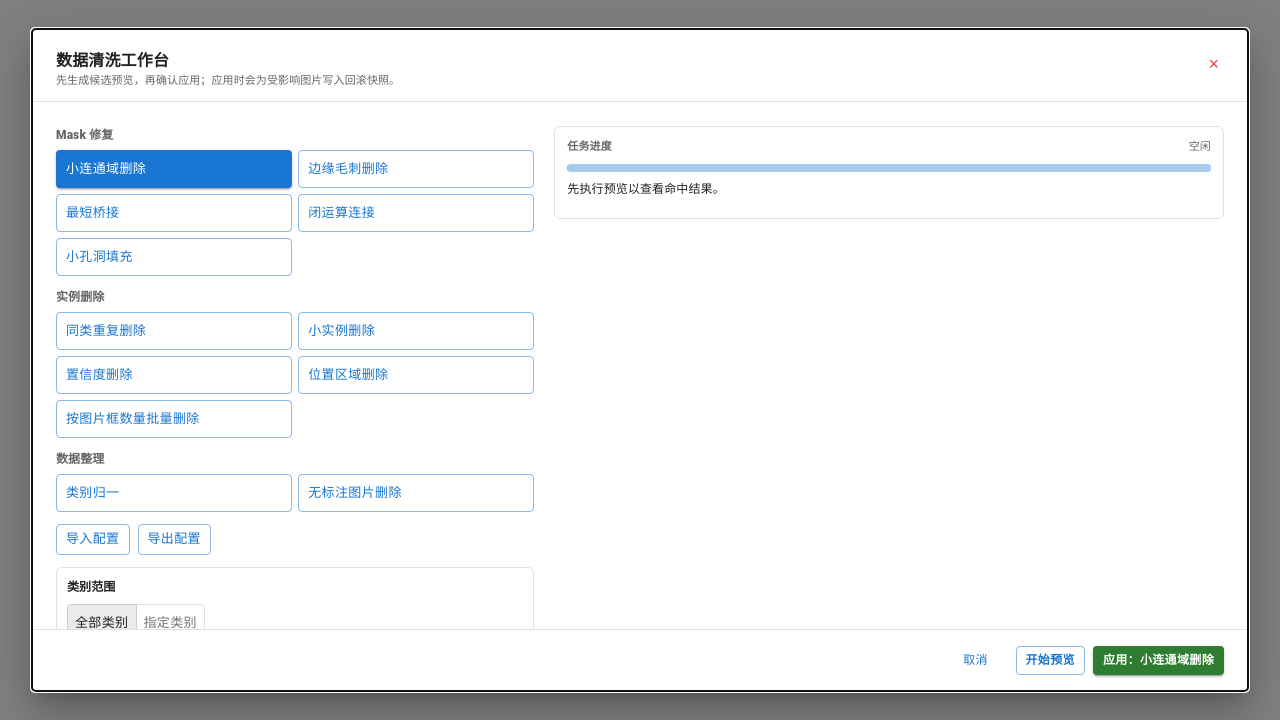
Test: data cleaning workbench › uses a MUI confirmation dialog before apply
Click the button "应用：小连通域删除". click: (1158, 661)
box: [1093, 646, 1224, 675]
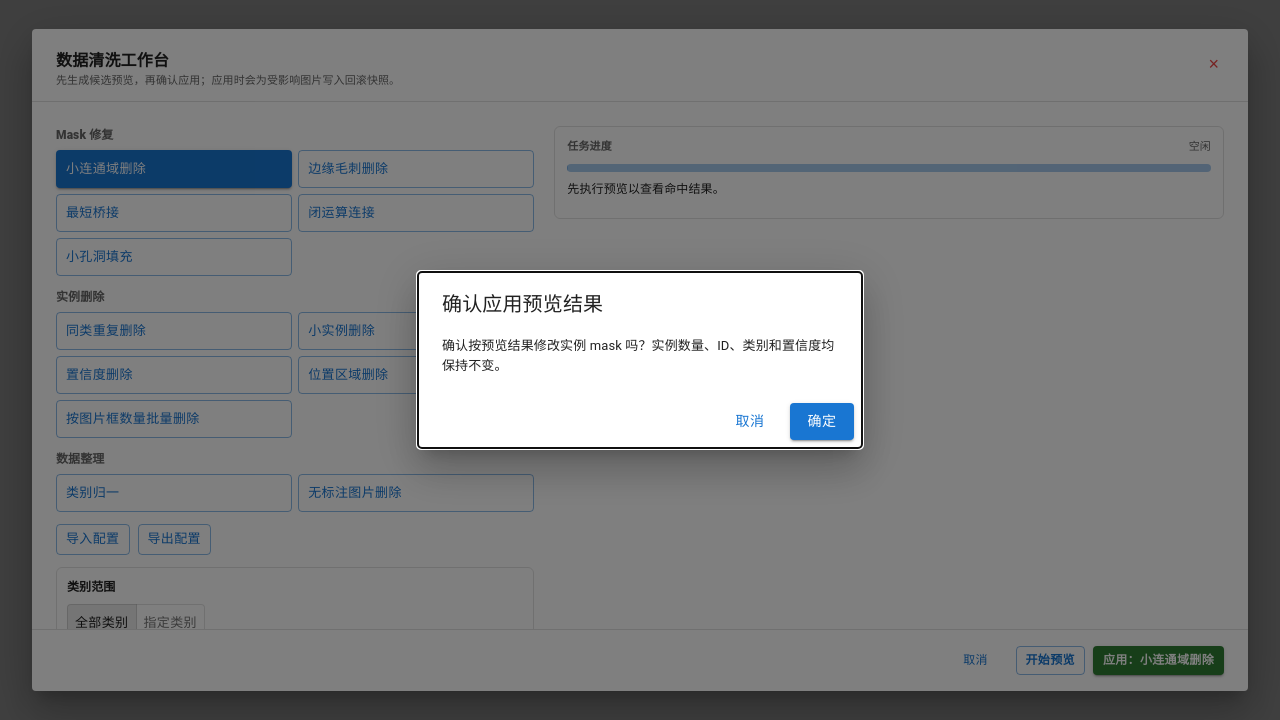
Now the dialog "确认应用预览结果" is shown, box [418, 272, 862, 448]
Now the text "确认按预览结果修改实例 mask 吗？实例数量、ID、类别和置信度均保持不变。" is shown, box [442, 336, 838, 375]
